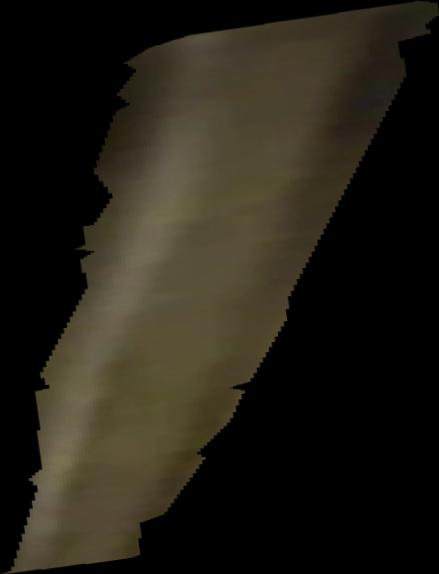backward: (1, 1, 439, 574)
